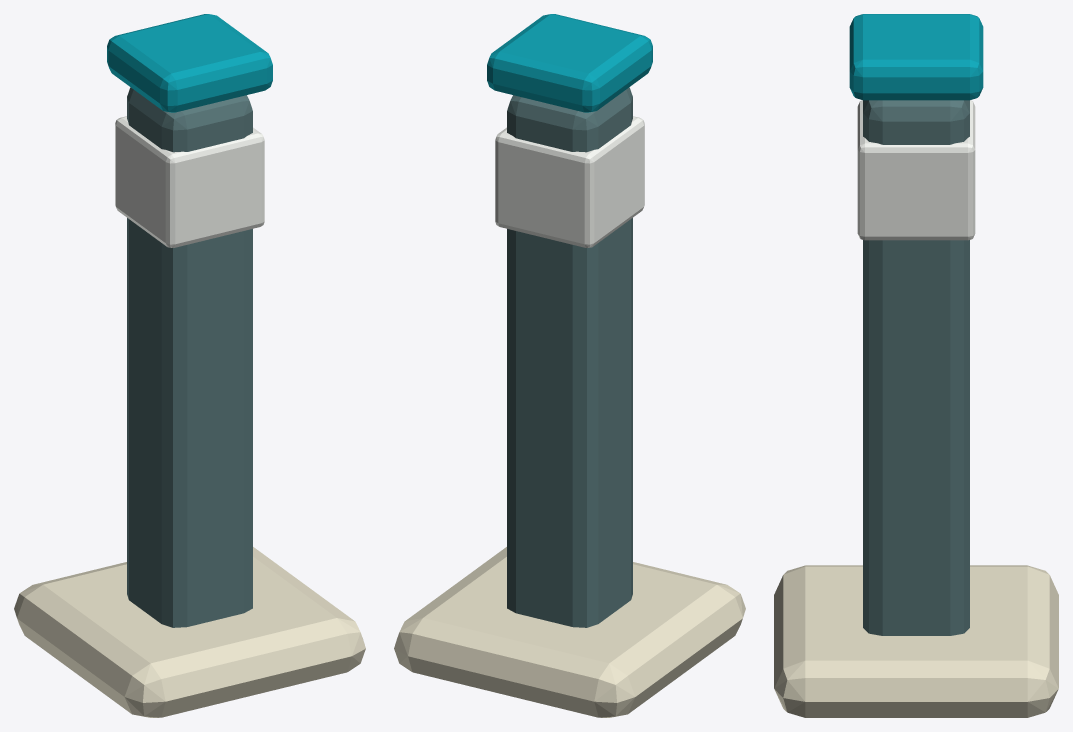
File: bollard.glb
3 views of the same model, side by side, from view 1: azimuth 30°, elevation 25°; view 2: azimuth 150°, elevation 25°; view 3: azimuth 270°, elevation 25° (orthographic). The views are drawn at different scales.
Visible parts, largest first — view 1: bollard; view 2: bollard; view 3: bollard.
Part boxes in pixels (box(x1,y1,x2,y2)): bollard: box(14, 14, 365, 717); bollard: box(394, 14, 745, 717); bollard: box(774, 14, 1058, 717).
Size of the model in its own units: 0.32 by 0.785 by 0.32.
